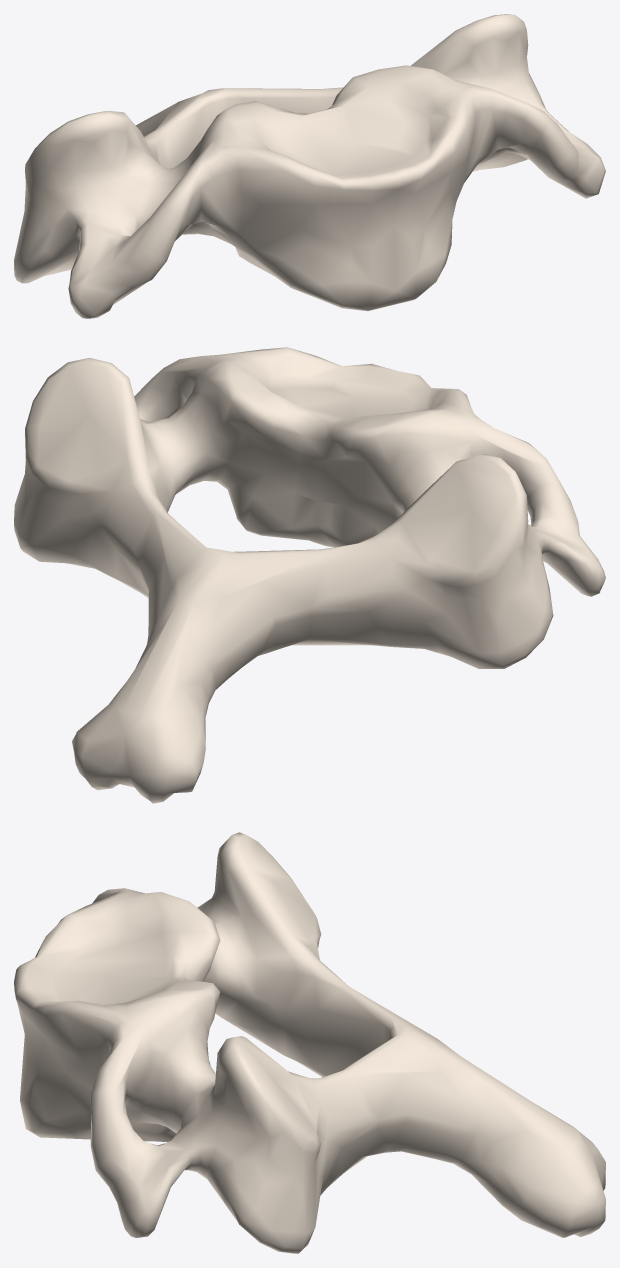
3 renders of one model, top to bottom at view 1: azimuth 30°, elevation 25°; view 2: azimuth 150°, elevation 25°; view 3: azimuth 270°, elevation 25°, orthographic. The views are drawn at different scales.
Parts seen in each view (by area): view 1: Cervical vertebrae (C3); view 2: Cervical vertebrae (C3); view 3: Cervical vertebrae (C3).
Boxes of the visible parts, x1=… form: Cervical vertebrae (C3): x1=14, y1=14, x2=605, y2=318; Cervical vertebrae (C3): x1=14, y1=347, x2=605, y2=803; Cervical vertebrae (C3): x1=14, y1=832, x2=605, y2=1253.
Bounding box in the file's own units: 0.0563 × 0.0268 × 0.0514.
